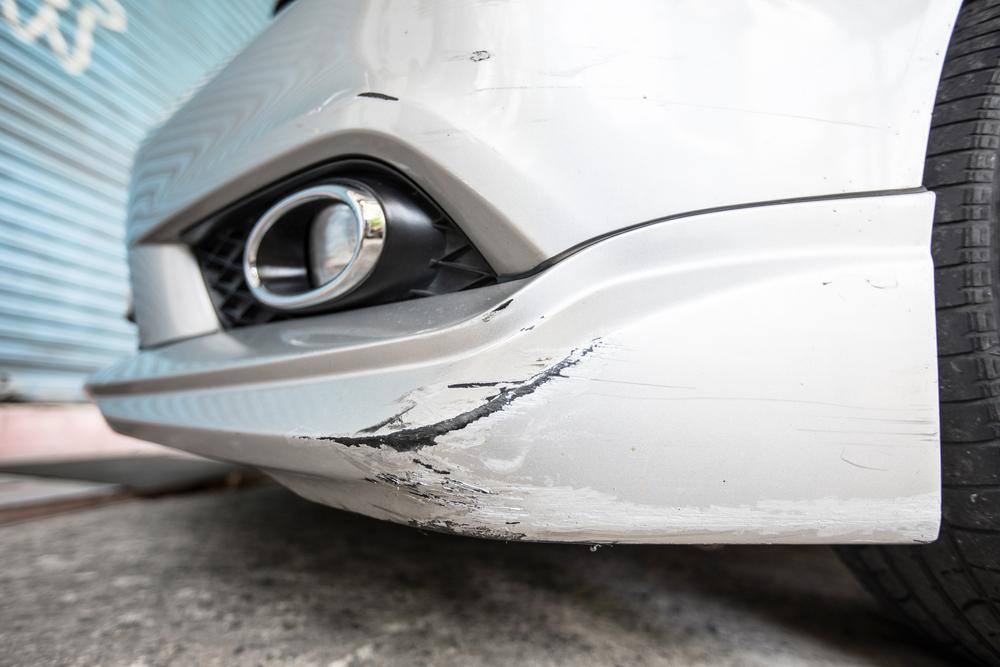scratch: (285, 333, 942, 547)
